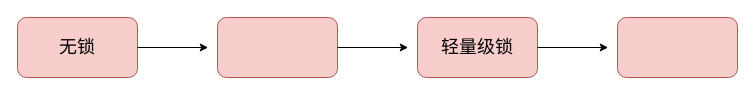
Some shapes in this 755 by 95 pixel diagram are drawn without their labels. Each missing label, with the box of its shape:
偏向锁: (216, 16, 338, 78)
重量级锁: (616, 16, 738, 78)
